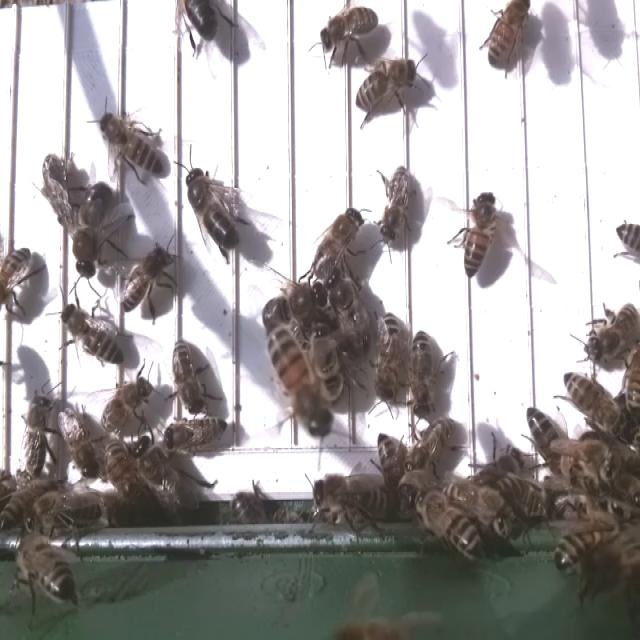Drone: (182, 162, 241, 256), (70, 177, 121, 280), (310, 205, 363, 284), (261, 281, 331, 328)
Worker: (266, 327, 328, 443), (99, 108, 170, 180), (56, 301, 128, 366), (118, 243, 170, 318), (559, 371, 623, 429), (56, 398, 101, 480), (584, 300, 639, 364), (377, 159, 415, 250), (22, 386, 58, 482), (315, 2, 379, 55), (354, 60, 419, 112), (483, 0, 529, 70), (403, 415, 457, 474), (98, 378, 153, 435), (461, 189, 495, 280), (524, 402, 564, 479), (372, 308, 403, 407), (169, 335, 205, 418), (163, 414, 233, 456), (41, 147, 74, 234), (0, 238, 35, 310), (408, 328, 434, 419)
